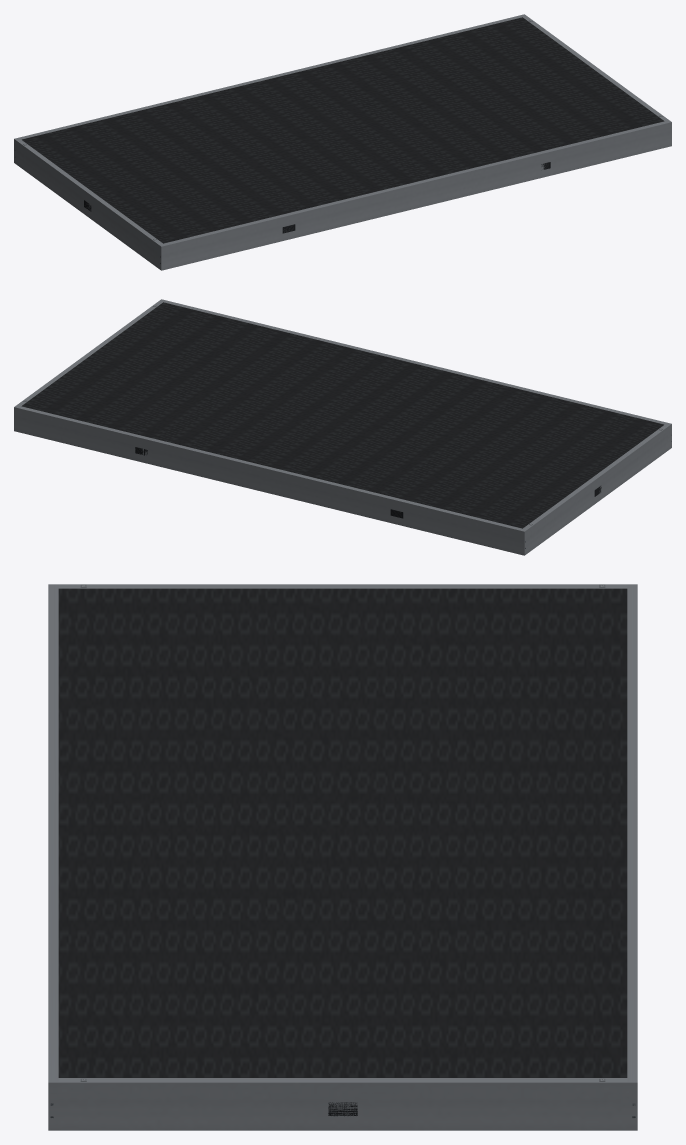
Rendered from stage_deck_2x1_without_legs.obj.
The picture shows the model from 3 angles, top to bottom: view 1: azimuth 30°, elevation 25°; view 2: azimuth 150°, elevation 25°; view 3: azimuth 270°, elevation 25°; orthographic projection. The views are drawn at different scales.
Parts seen in each view (by area): view 1: part_4, part_43, part_81, part_28, part_64, part_124, part_100, part_10, part_46, part_55, part_61; view 2: part_4, part_6, part_81, part_64, part_28, part_100, part_124, part_10, part_46, part_18, part_24; view 3: part_4, part_104, part_28, part_64, part_124, part_100, part_46, part_10, part_106, part_82.
Part boxes in pixels (<box>): part_4: <box>22,17,664,243</box>; part_43: <box>161,122,671,270</box>; part_81: <box>14,140,160,268</box>; part_28: <box>15,14,526,140</box>; part_64: <box>159,120,671,245</box>; part_124: <box>523,16,668,120</box>; part_100: <box>18,139,162,244</box>; part_10: <box>14,14,524,139</box>; part_46: <box>161,122,670,246</box>; part_55: <box>161,127,671,252</box>; part_61: <box>162,122,671,246</box>; part_4: <box>21,302,663,528</box>; part_6: <box>14,407,524,555</box>; part_81: <box>525,425,671,554</box>; part_64: <box>159,299,670,425</box>; part_28: <box>15,405,526,531</box>; part_100: <box>523,424,668,529</box>; part_124: <box>18,301,162,405</box>; part_10: <box>14,406,524,531</box>; part_46: <box>161,299,671,424</box>; part_18: <box>14,412,523,536</box>; part_24: <box>14,407,523,532</box>; part_4: <box>58,588,627,1077</box>; part_104: <box>50,1082,635,1130</box>; part_28: <box>627,584,637,1082</box>; part_64: <box>48,584,58,1082</box>; part_124: <box>58,1078,627,1082</box>; part_100: <box>58,584,627,588</box>; part_46: <box>48,584,50,1082</box>; part_10: <box>635,584,637,1082</box>; part_106: <box>51,1081,634,1082</box>; part_82: <box>58,584,626,585</box>.
Size of the model in its own units: 2 by 0.105 by 1.
Materials: 3 (3 with a texture image).
